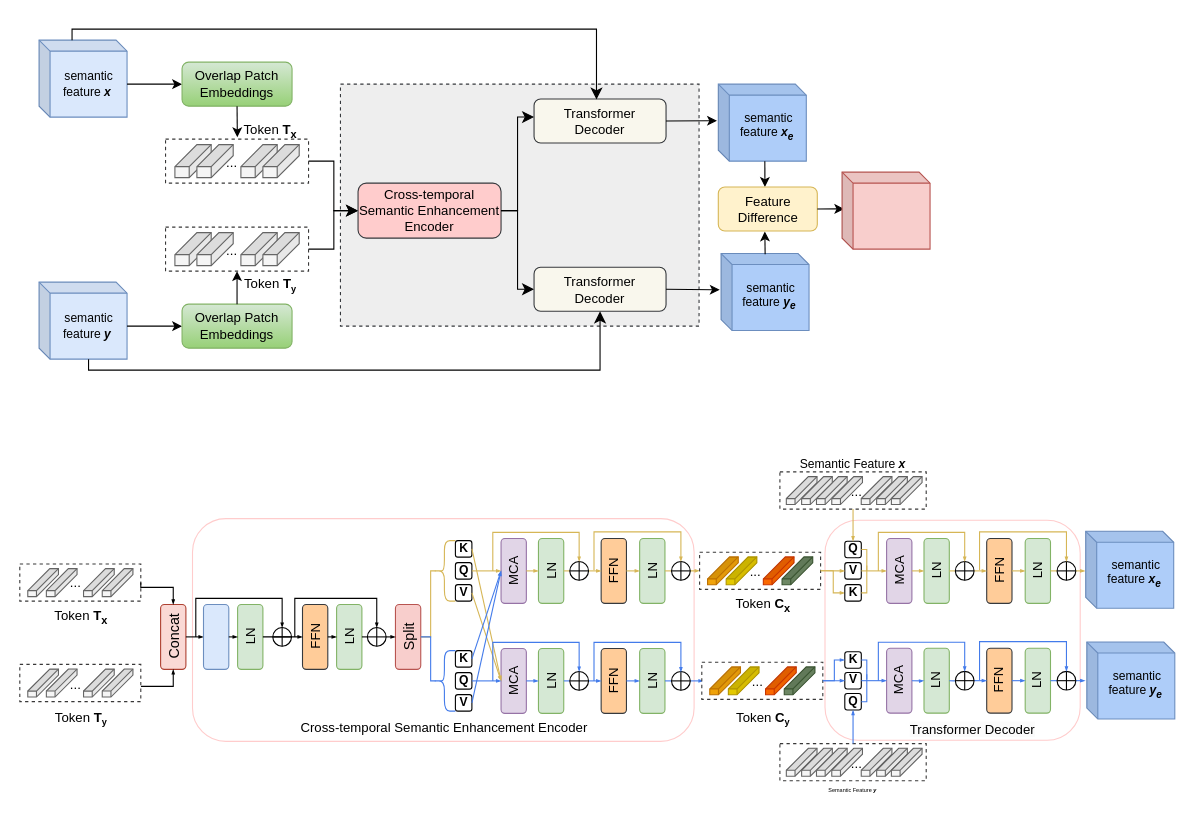
This 1199x824 diagram has some shape labels left out. The shapes that lost their labels are listed below. From the top down, each one's centre as x and y in pixels, then its label:
At (x=885, y=210): "final feature map D i".
At (x=215, y=636): "MSA".
